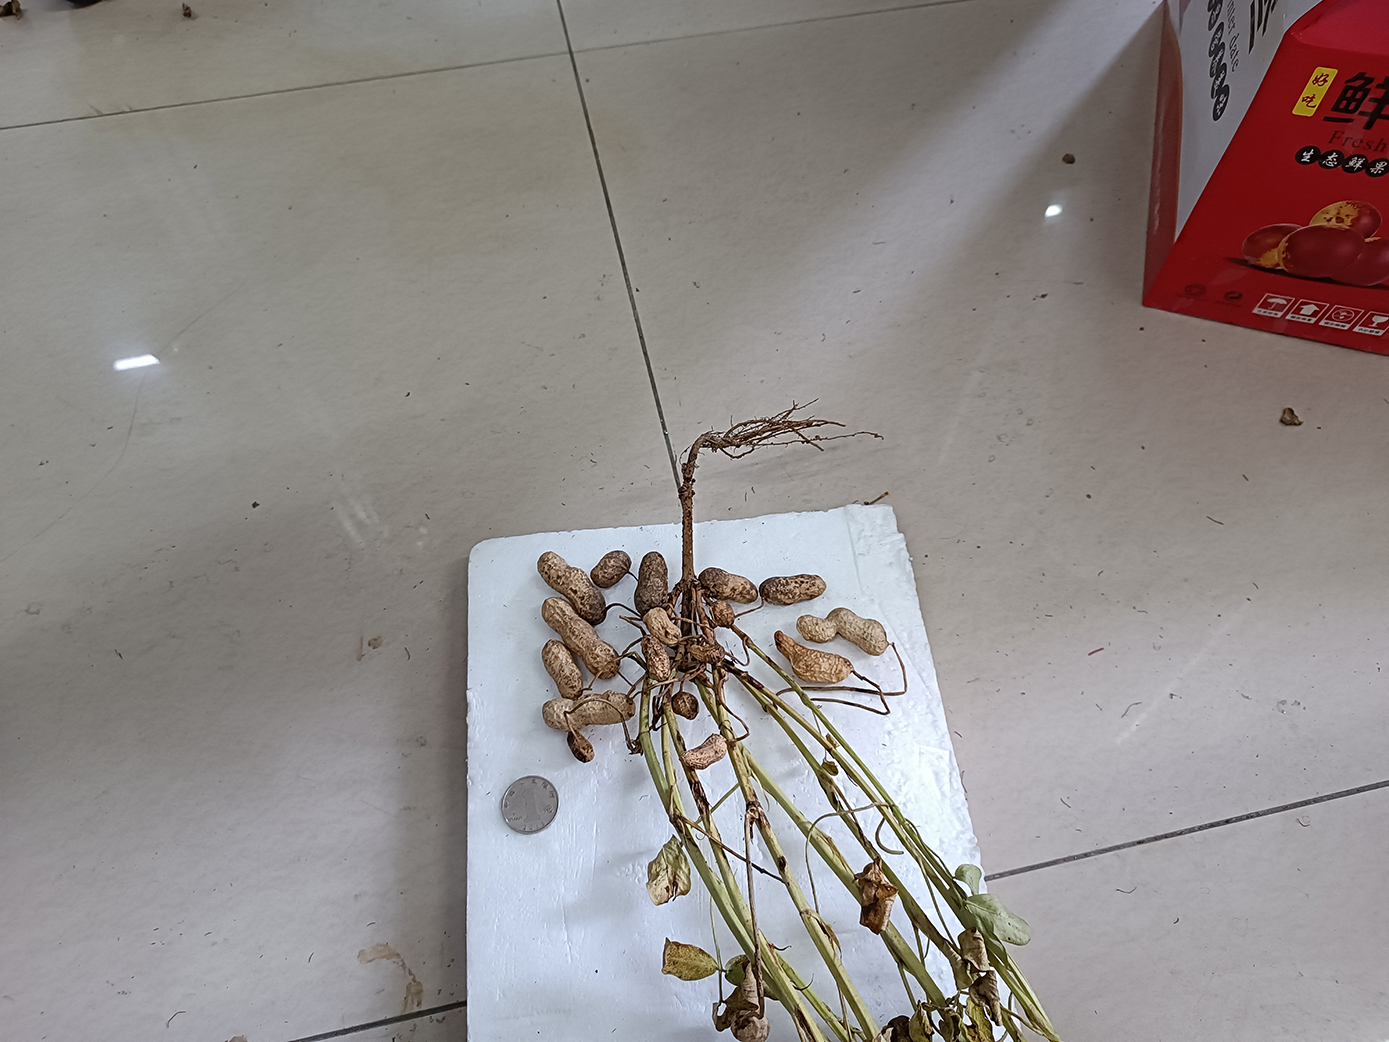h: (540, 595, 620, 678), (536, 551, 602, 623), (796, 607, 889, 657), (774, 629, 852, 683), (541, 691, 638, 729), (542, 640, 584, 699), (701, 566, 757, 604), (761, 574, 827, 605), (679, 734, 728, 769), (643, 638, 671, 680), (646, 609, 678, 644), (565, 729, 595, 763), (671, 692, 699, 720), (688, 642, 728, 662), (710, 599, 736, 629)
l: (637, 549, 670, 612), (593, 549, 629, 587)
